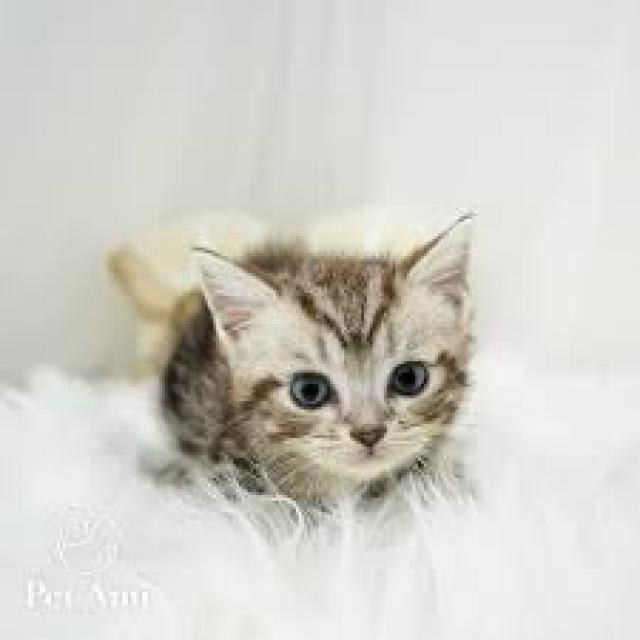cat-face: (111, 157, 580, 558)
